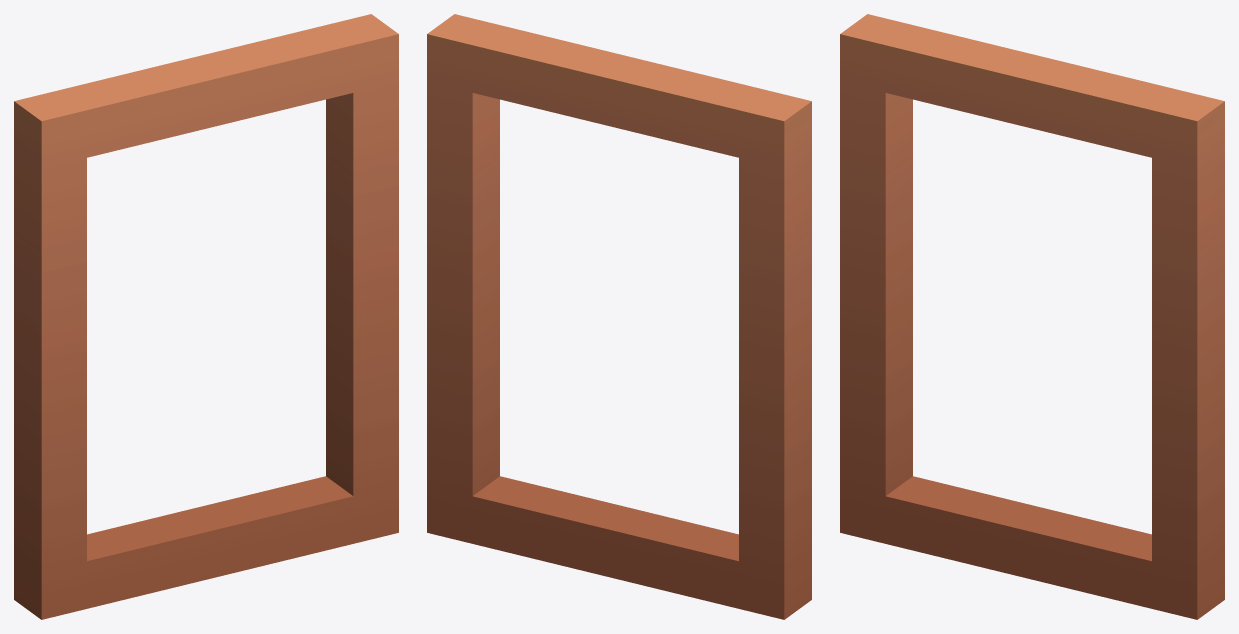
The model's file is kenney-modular-buildings-window-brown-large.glb.
3 views of the same model, side by side, from view 1: azimuth 30°, elevation 25°; view 2: azimuth 150°, elevation 25°; view 3: azimuth 330°, elevation 25° (orthographic).
Parts seen in each view (by area): view 1: window-brown-large; view 2: window-brown-large; view 3: window-brown-large.
Boxes of the visible parts, x1,y1,x2,y2 form: window-brown-large: (14,14,398,619); window-brown-large: (427,14,811,619); window-brown-large: (840,14,1224,619).
Size of the model in its own units: 0.375 by 0.5 by 0.05.
Materials: 1 (1 with a texture image).
